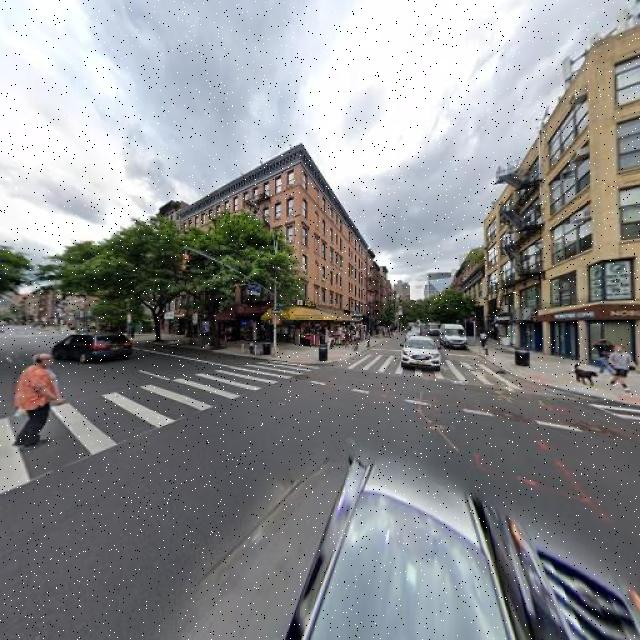Building: (483, 29, 640, 378), (178, 147, 367, 347)
